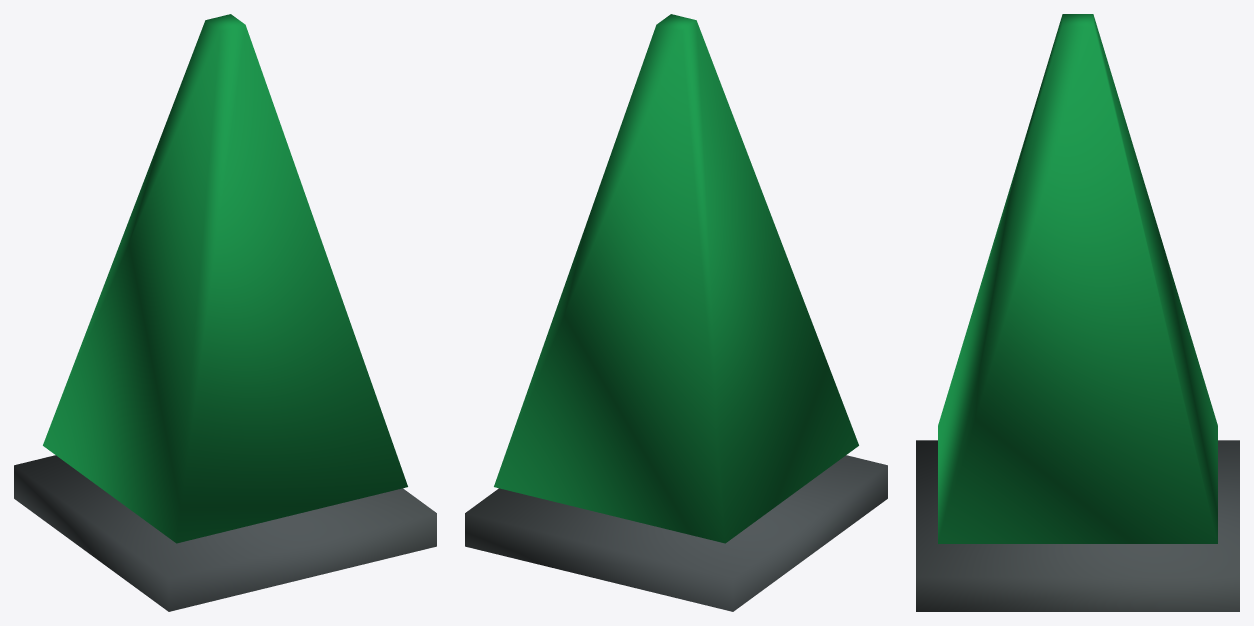
The model's file is spruce border 1.fbx.
3 renders of one model, left to right at view 1: azimuth 30°, elevation 25°; view 2: azimuth 150°, elevation 25°; view 3: azimuth 270°, elevation 25°, orthographic. The views are drawn at different scales.
Visible parts, largest first — view 1: spruce border 1; view 2: spruce border 1; view 3: spruce border 1.
Part boxes in pixels (x1,y1,x2,y2): spruce border 1: (14,14,436,611); spruce border 1: (465,14,887,611); spruce border 1: (916,14,1239,611).
Size of the model in its own units: 169 by 301 by 169.
Materials: 1 (1 with a texture image).
